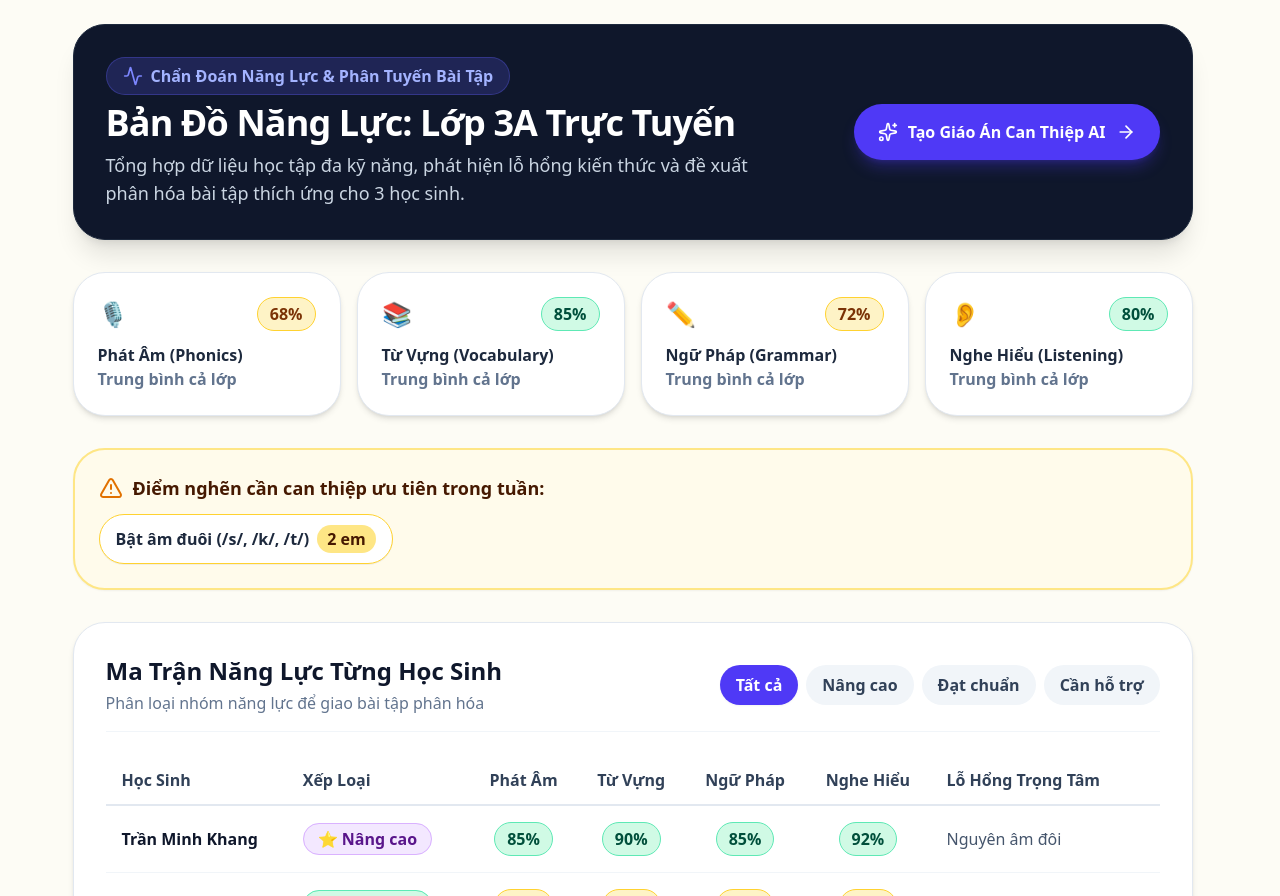
Test: ClassSkillHeatmap Component › filters students by tier tabs correctly
Expected: the text "Trần Minh Khang" is shown, [106,805,287,872]
# Filter to advanced only
What coordinates should you click on to do the following:
click the button "Nâng cao"
I would click on:
 (860, 685)
Its box is [806,665,914,705].
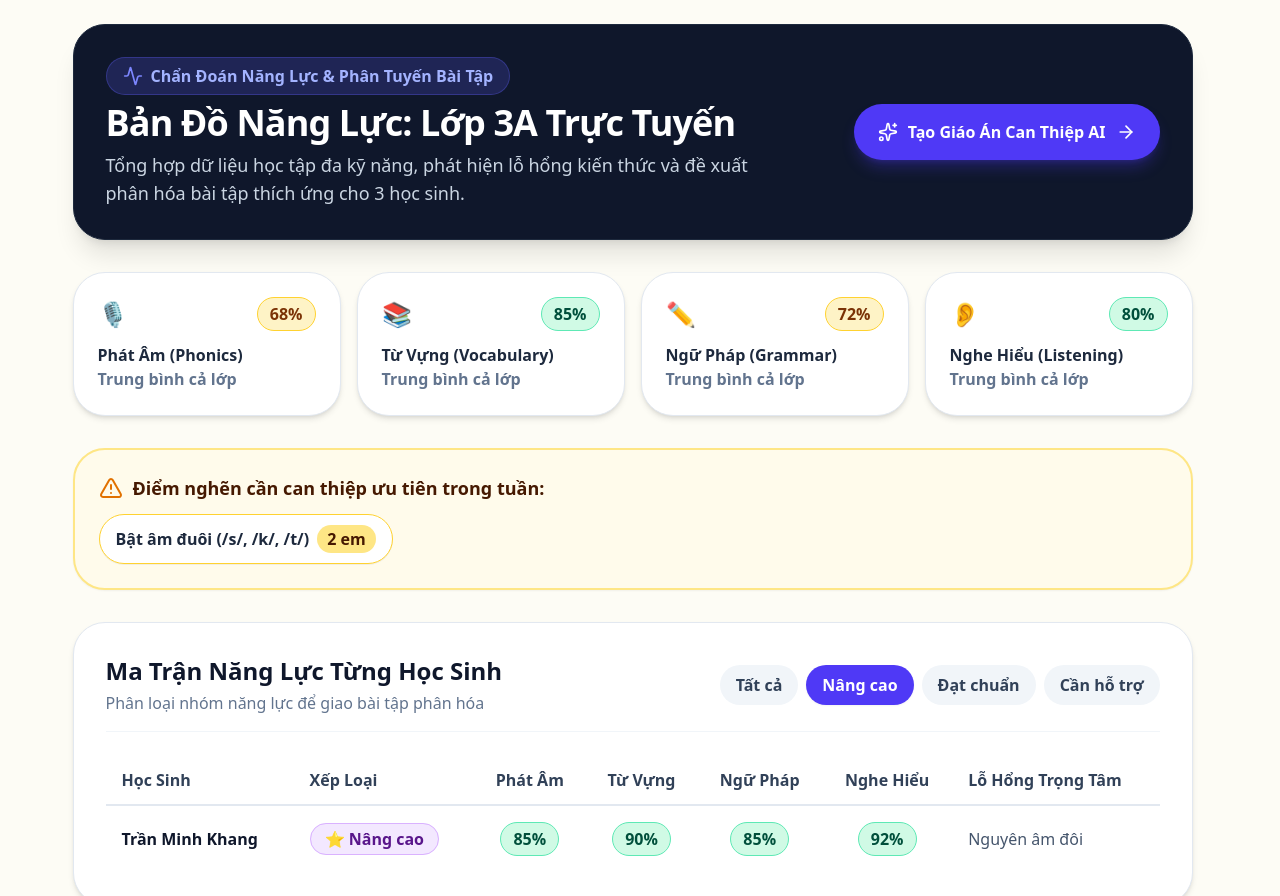
Expected: the text "Trần Minh Khang" is shown, [106,805,294,872]
Expected: the text "Lê Hoàng Yến" is not shown
# Filter to support only
What coordinates should you click on to do the following:
click the button "Cần hỗ trợ"
I would click on:
 (1102, 685)
Its box is [1044,665,1160,705].
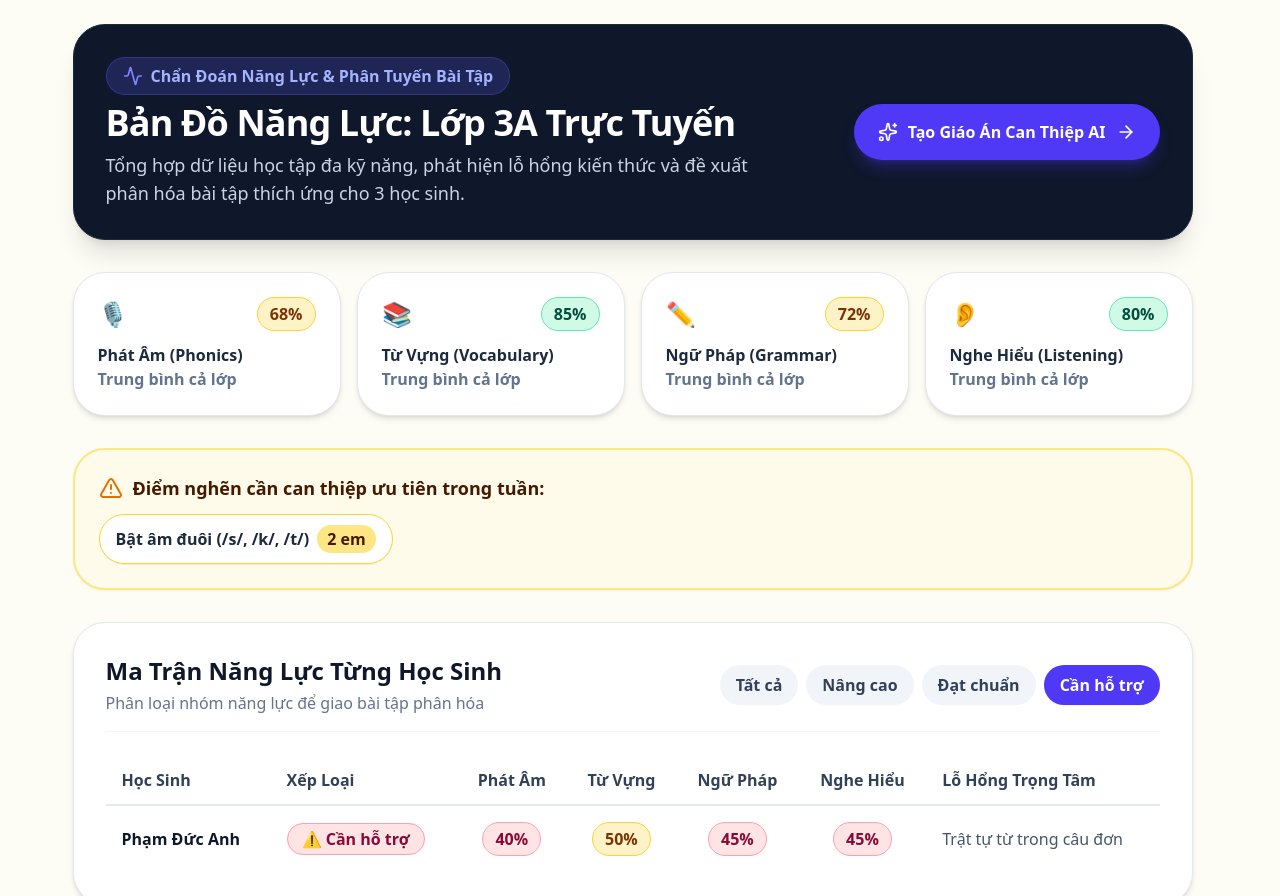
Expected: the text "Trần Minh Khang" is gone
Expected: the text "Phạm Đức Anh" is shown, [106,805,270,872]
